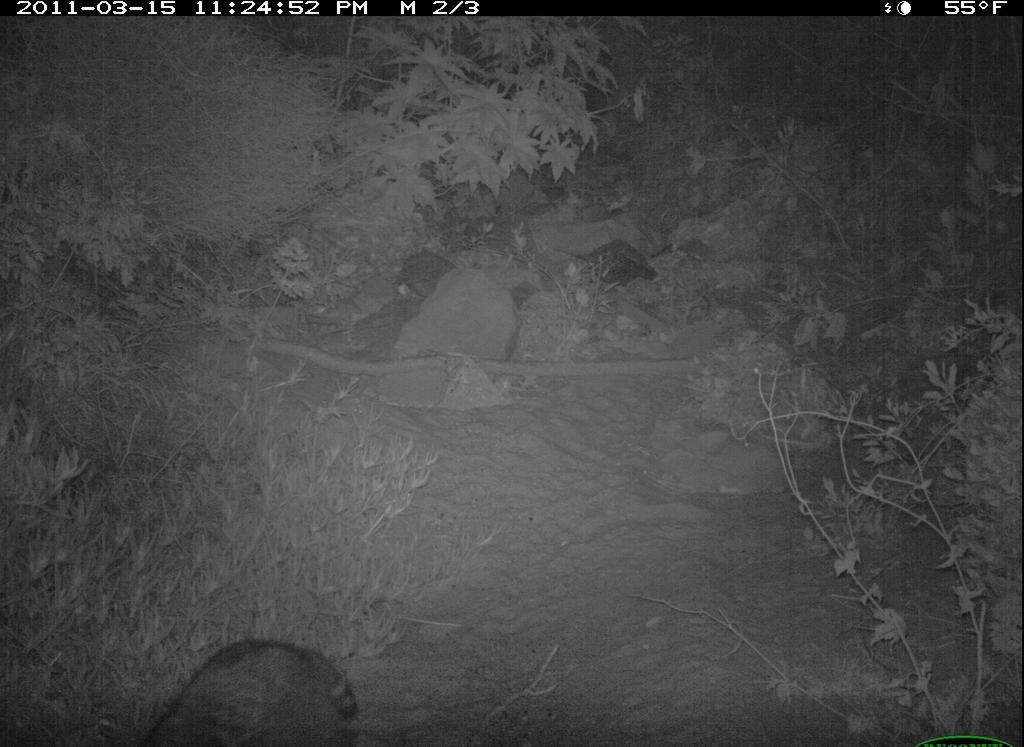raccoon: (130, 606, 379, 747)
